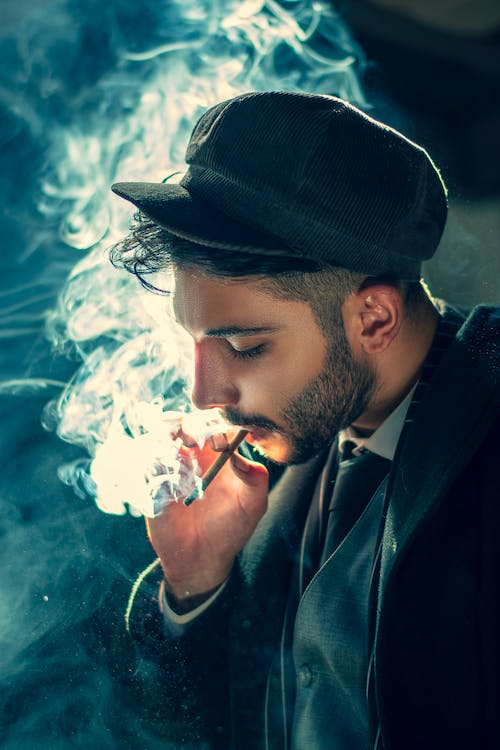cigarette: (181, 426, 253, 509)
